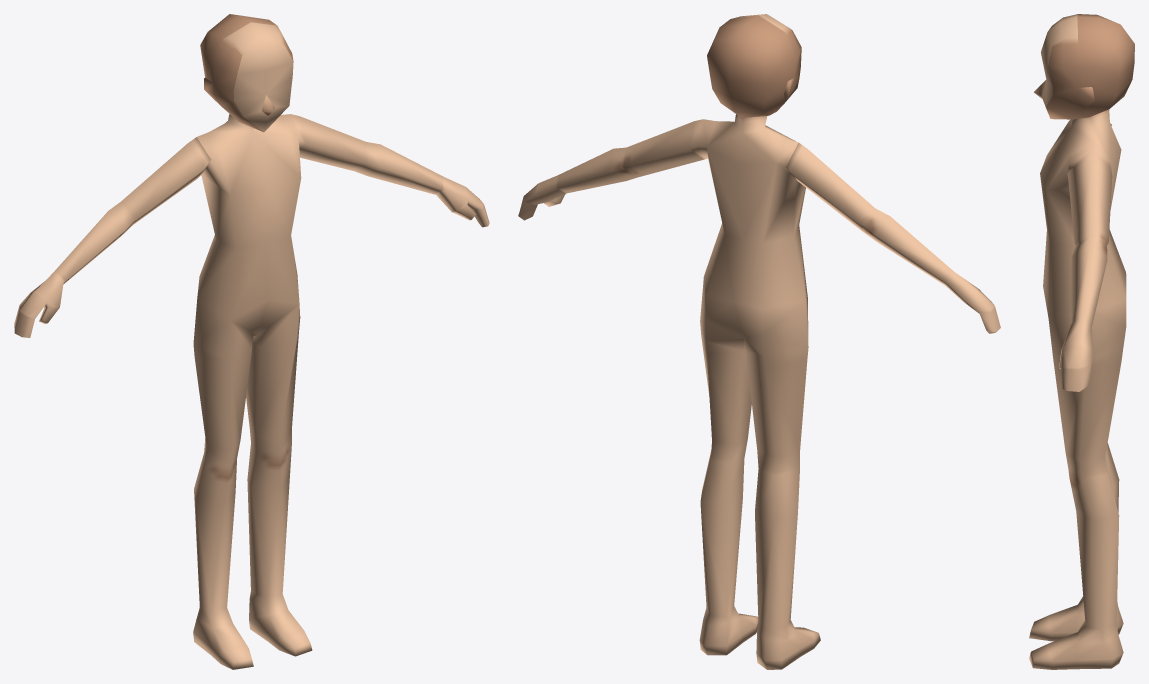
Rendered from test doll base.fbx.
The picture shows the model from 3 angles, left to right: view 1: azimuth 30°, elevation 25°; view 2: azimuth 150°, elevation 25°; view 3: azimuth 270°, elevation 25°; orthographic projection.
Parts seen in each view (by area): view 1: child mesh_UVed; view 2: child mesh_UVed; view 3: child mesh_UVed.
Boxes of the visible parts, <box> form: child mesh_UVed: <box>14,14,489,669</box>; child mesh_UVed: <box>518,14,1000,669</box>; child mesh_UVed: <box>1029,14,1134,669</box>.
Bounding box in the file's own units: 531 × 672 × 102.
